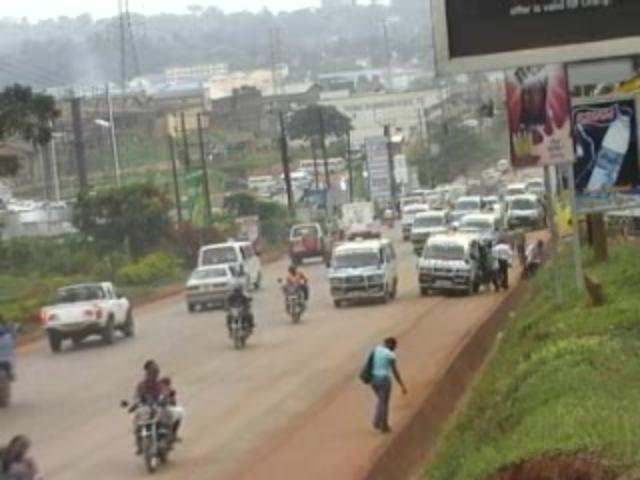car: (185, 262, 236, 311), (400, 202, 428, 238)
motorcycle: (131, 361, 175, 475), (225, 282, 257, 353), (281, 264, 309, 326)
van: (41, 281, 134, 351), (325, 236, 398, 305), (416, 233, 491, 296), (195, 240, 261, 293), (288, 223, 332, 267), (410, 208, 449, 252), (457, 212, 506, 246), (506, 193, 544, 229), (450, 194, 493, 220)
